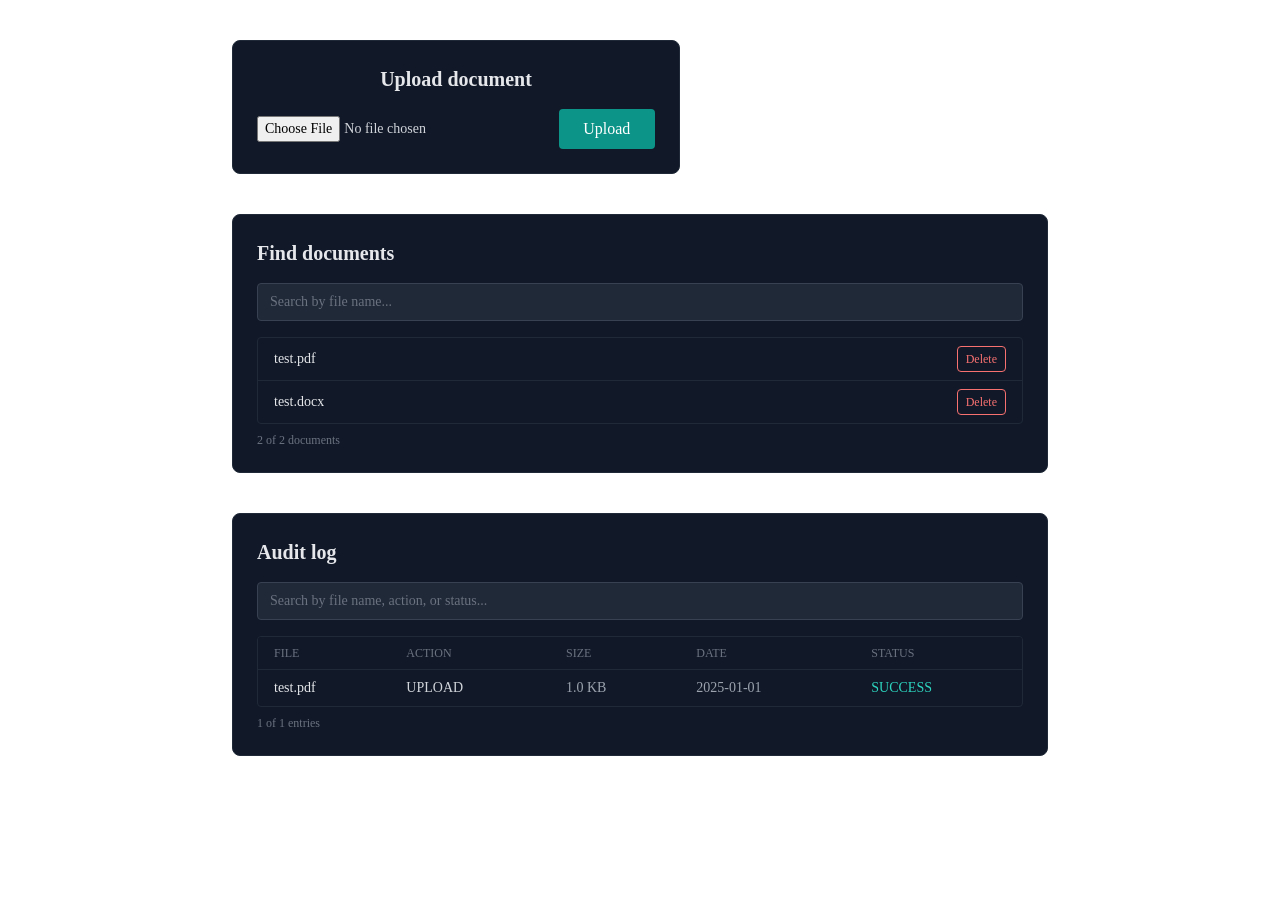
Test: Documents › opens delete confirmation
Click the 1st button "Delete": (981,359) [957,346,1006,372]
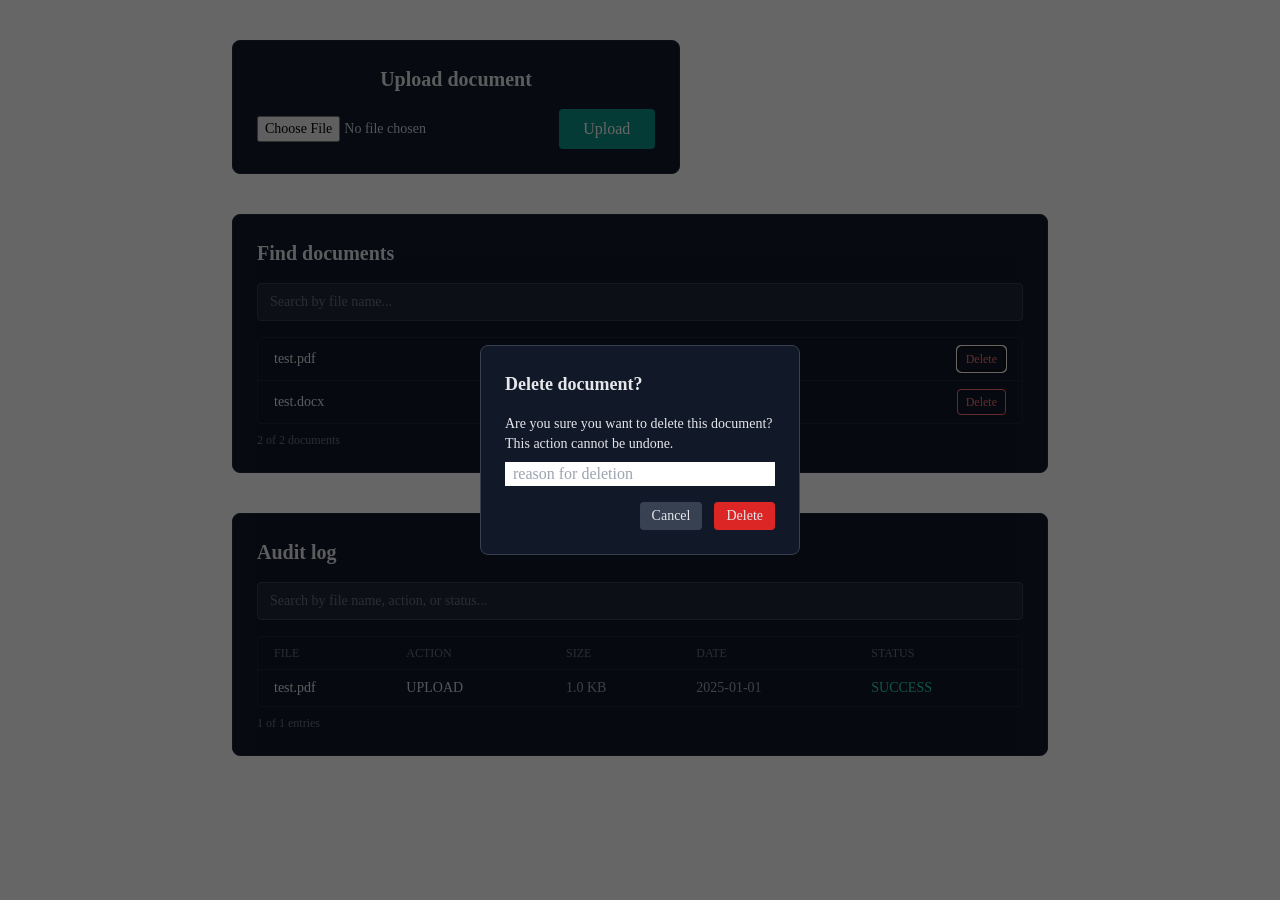
Expected: the heading "Delete document?" is shown, [505,374,642,394]
